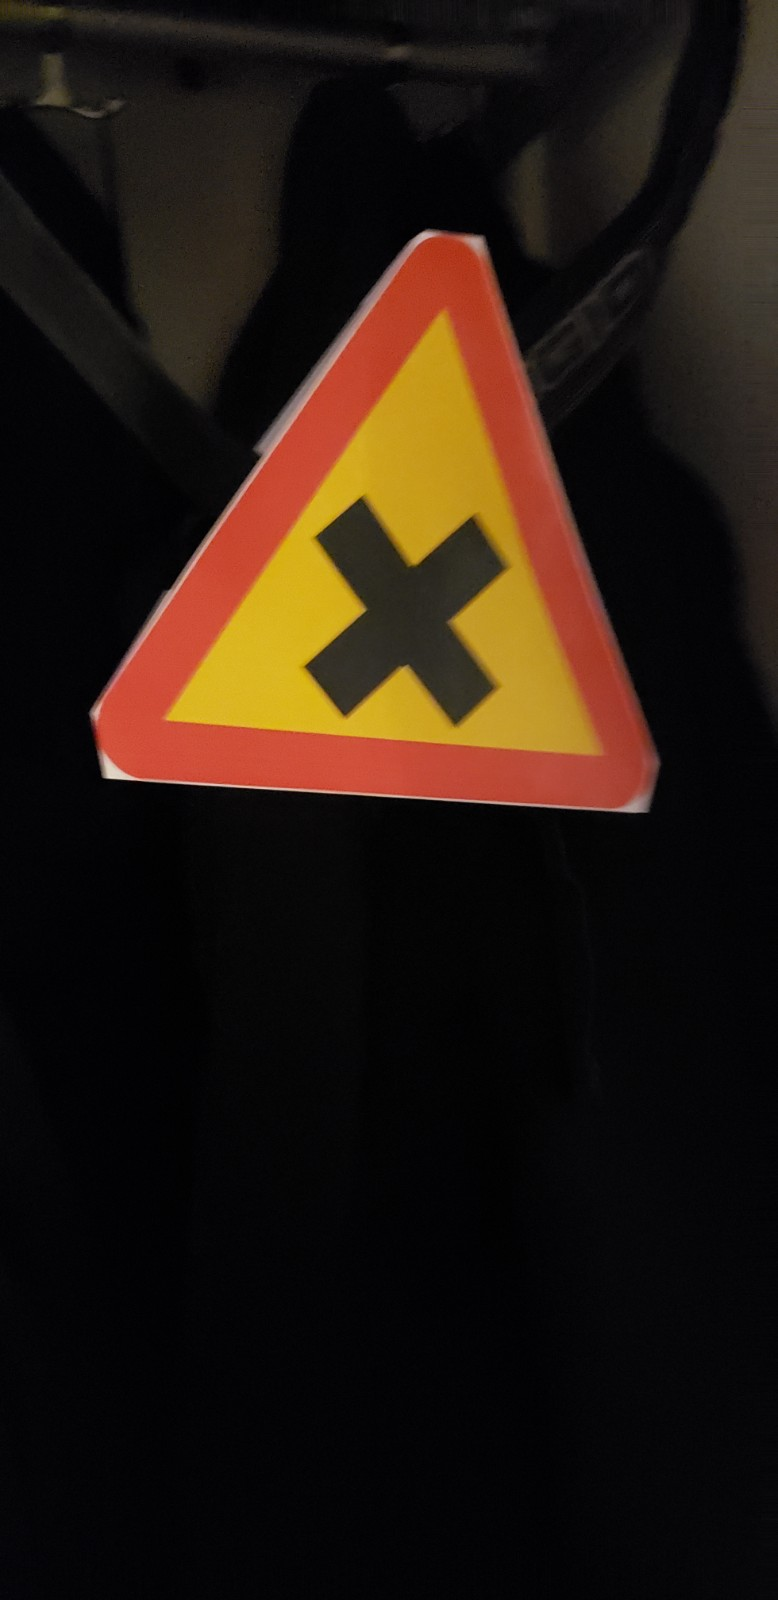junction: (84, 184, 673, 863)
